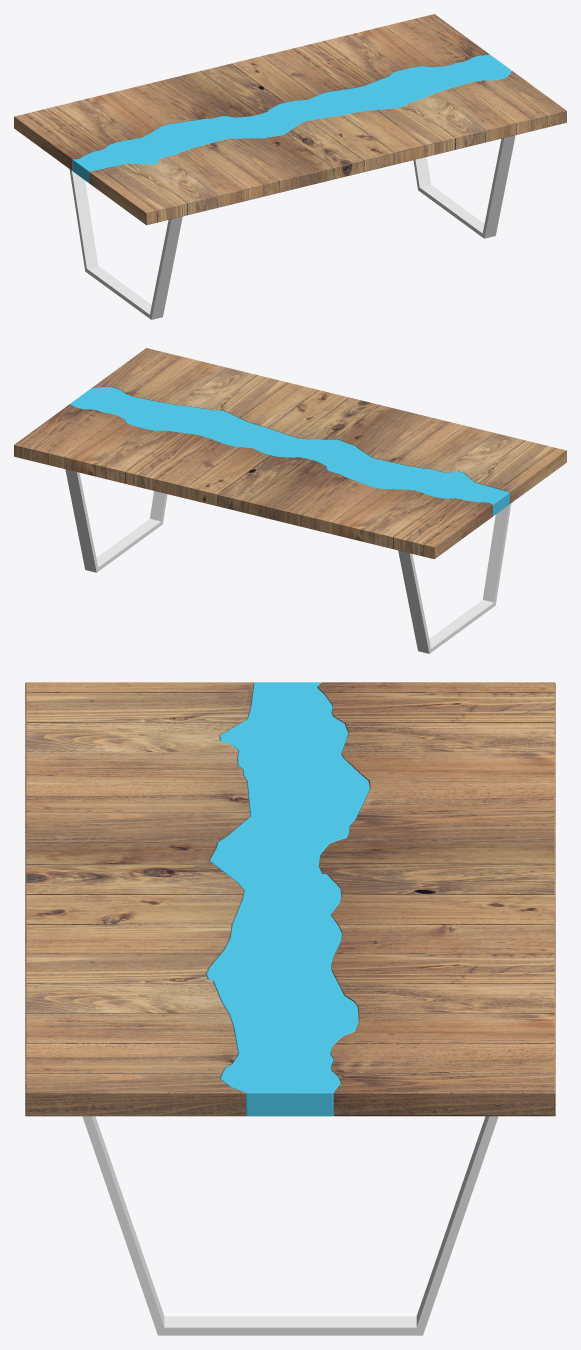
Rendered from model-kvadrat.glb.
3 views of the same model, one above another, from view 1: azimuth 30°, elevation 25°; view 2: azimuth 150°, elevation 25°; view 3: azimuth 270°, elevation 25° (orthographic). The views are drawn at different scales.
Visible parts, largest first — view 1: 002_Mesh_2.003, 001_Mesh_0.003, 000_Mesh_1.003; view 2: 002_Mesh_2.003, 001_Mesh_0.003, 000_Mesh_1.003; view 3: 002_Mesh_2.003, 001_Mesh_0.003, 000_Mesh_1.003.
Part boxes in pixels (box(x1,y1,x2,y2)): 002_Mesh_2.003: box(14, 14, 566, 225); 001_Mesh_0.003: box(72, 54, 511, 182); 000_Mesh_1.003: box(69, 135, 515, 319); 002_Mesh_2.003: box(14, 348, 566, 559); 001_Mesh_0.003: box(70, 387, 509, 515); 000_Mesh_1.003: box(65, 469, 511, 653); 002_Mesh_2.003: box(25, 682, 555, 1116); 001_Mesh_0.003: box(206, 682, 369, 1116); 000_Mesh_1.003: box(82, 1116, 498, 1335).
Size of the model in its own units: 110 by 35 by 60.
Materials: 3 (2 with a texture image).
